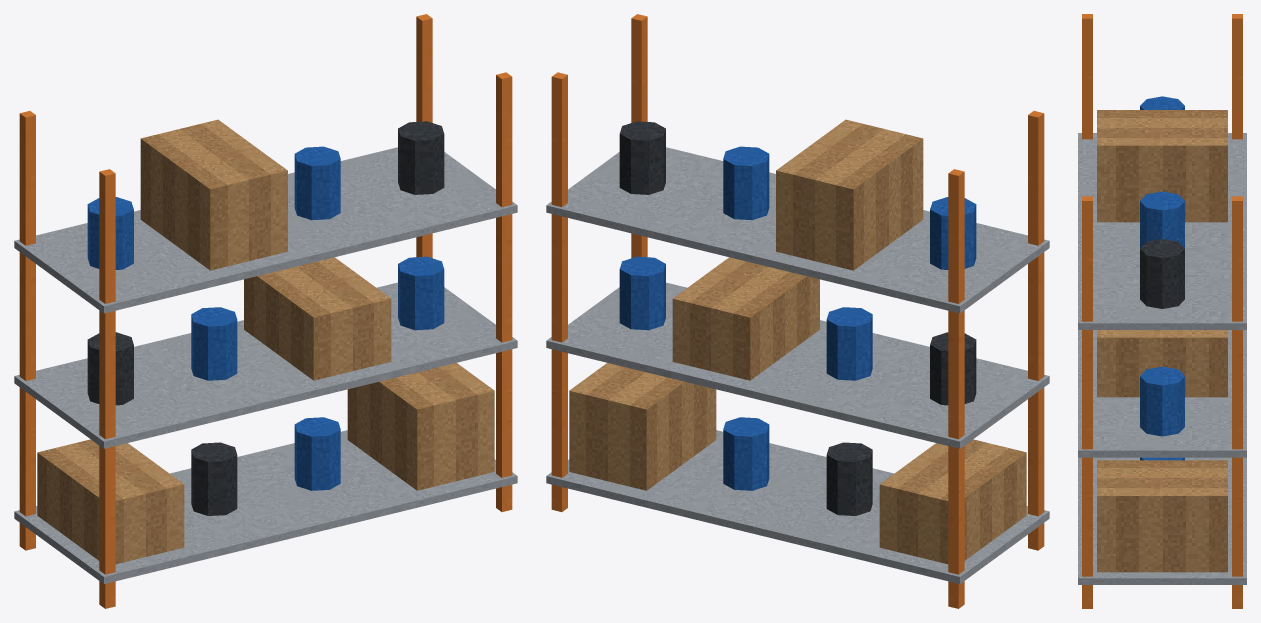
3 renders of one model, left to right at view 1: azimuth 30°, elevation 25°; view 2: azimuth 150°, elevation 25°; view 3: azimuth 270°, elevation 25°, orthographic. The views are drawn at different scales.
Visible parts, largest first — view 1: Decor_shop_rack; view 2: Decor_shop_rack; view 3: Decor_shop_rack.
Boxes of the visible parts, bbox=[...] form: Decor_shop_rack: bbox=[14, 14, 517, 608]; Decor_shop_rack: bbox=[546, 14, 1049, 608]; Decor_shop_rack: bbox=[1078, 14, 1246, 608].
Size of the model in its own units: 2.4 by 2.4 by 0.9001.
5 materials, 5 textured.
